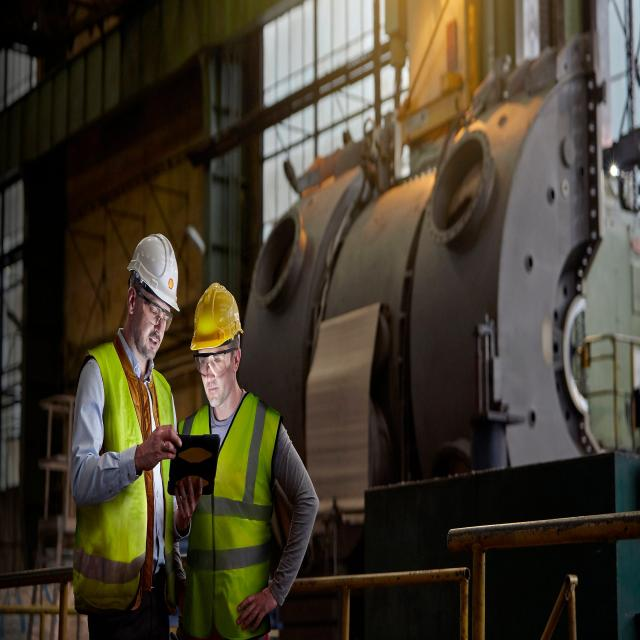Reflective-Jacket: (68, 346, 176, 612), (182, 391, 286, 632)
Safety-Helmet: (126, 227, 181, 315), (189, 280, 245, 354)
